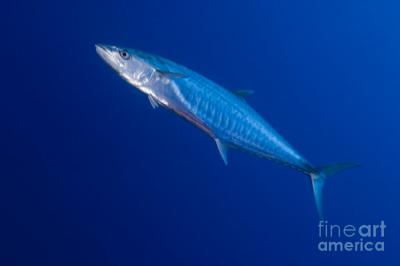Scombridae -Tunas-: (91, 40, 361, 221)
